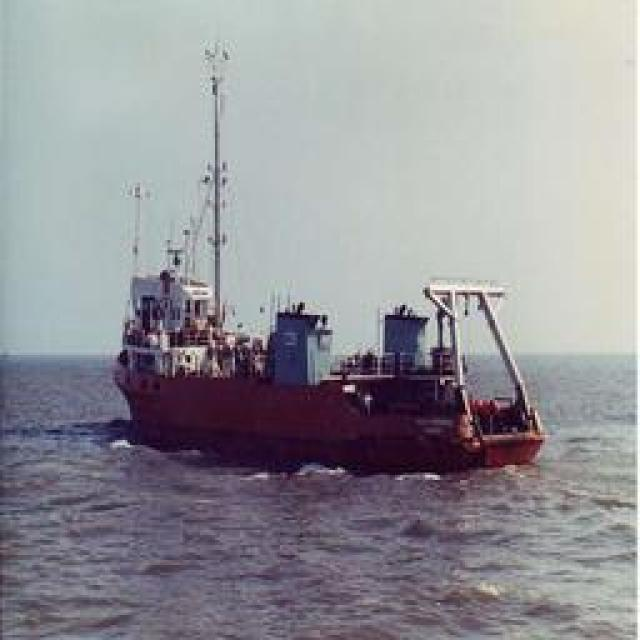CIV_Ship: (104, 109, 534, 469)
